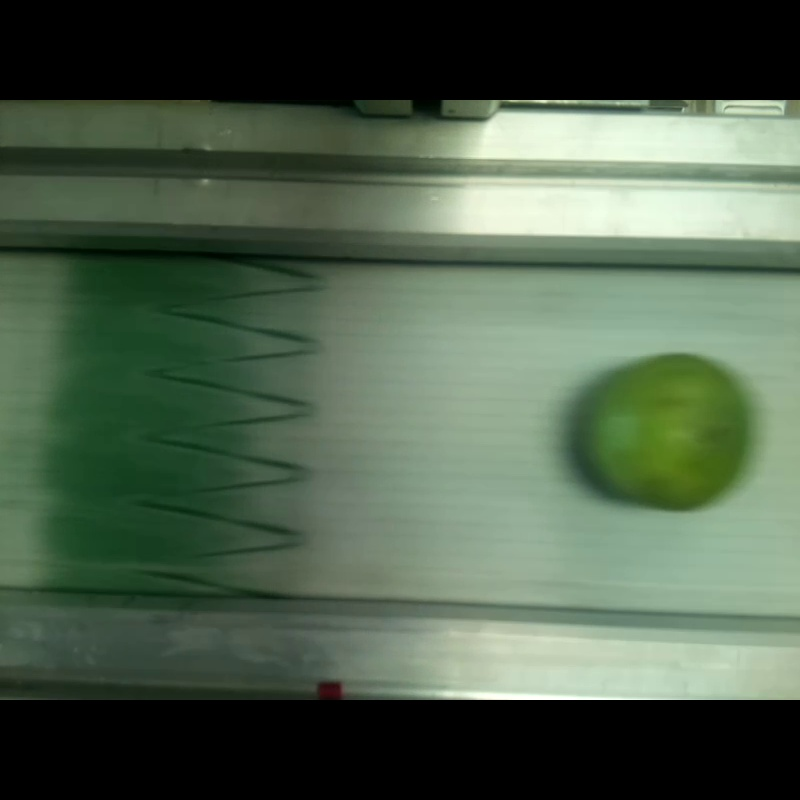lime: (578, 352, 747, 510)
